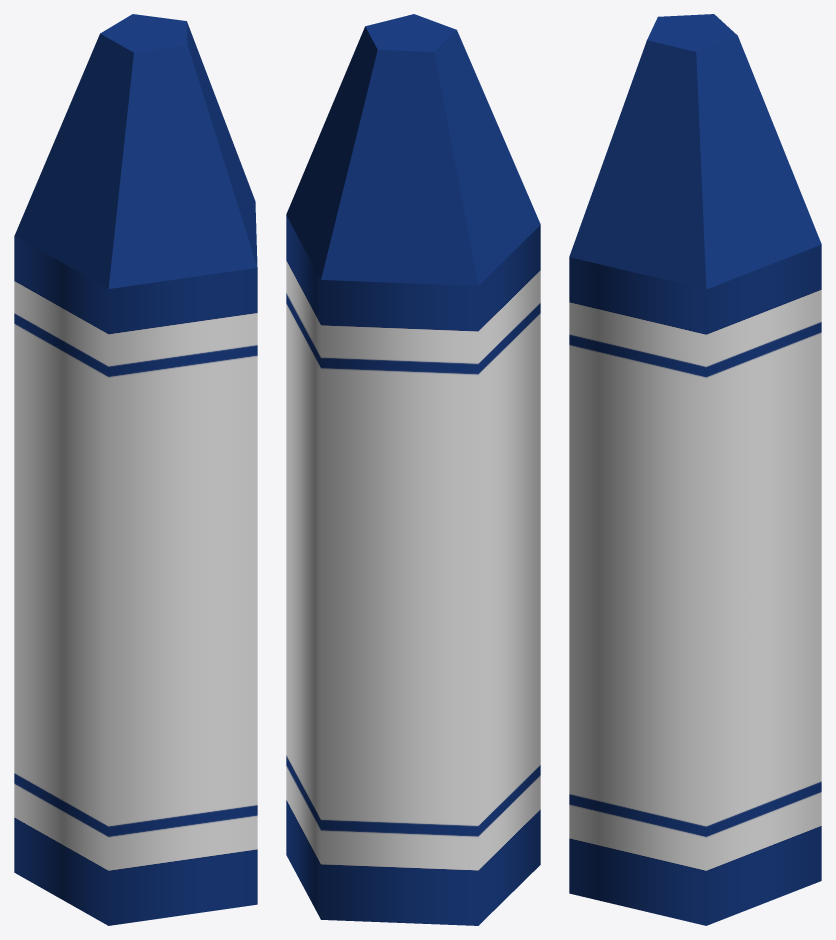
The model's file is Crepas_Blue.fbx.
3 renders of one model, left to right at view 1: azimuth 30°, elevation 25°; view 2: azimuth 150°, elevation 25°; view 3: azimuth 270°, elevation 25°, orthographic.
Parts seen in each view (by area): view 1: Blue; view 2: Blue; view 3: Blue.
Boxes of the visible parts, x1,y1,x2,y2 form: Blue: (14, 14, 257, 925); Blue: (286, 14, 540, 925); Blue: (569, 14, 821, 925).
Bounding box in the file's own units: 8.36 × 30.99 × 8.46.
Materials: 1 (1 with a texture image).
